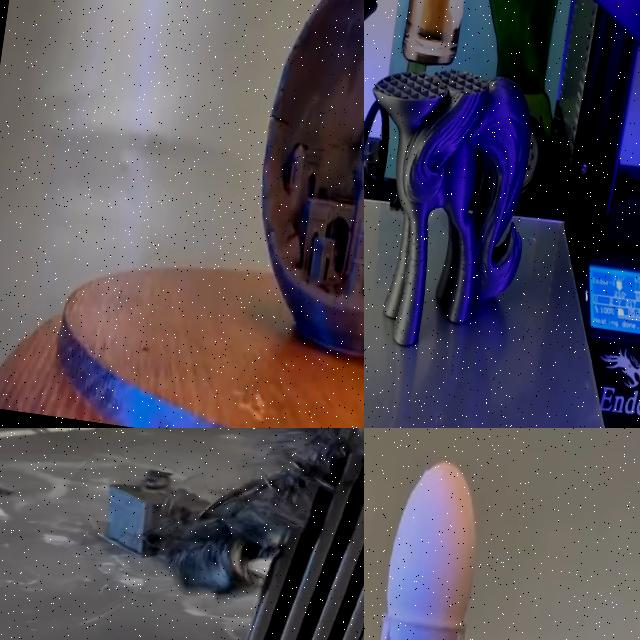spaghetti: (256, 428, 364, 485)
